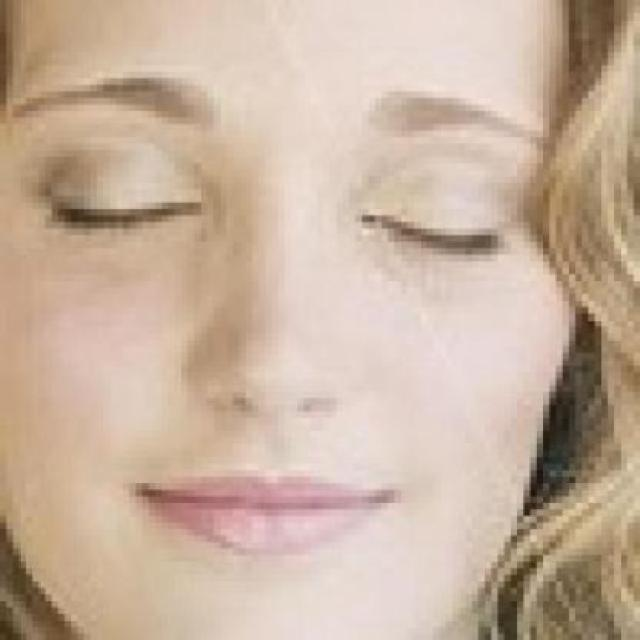drowsy: (366, 199, 496, 278), (37, 181, 194, 241)
